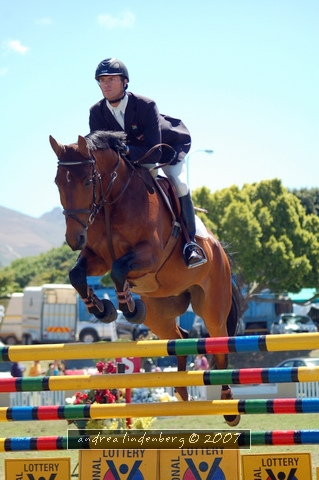person: (90, 58, 208, 272)
